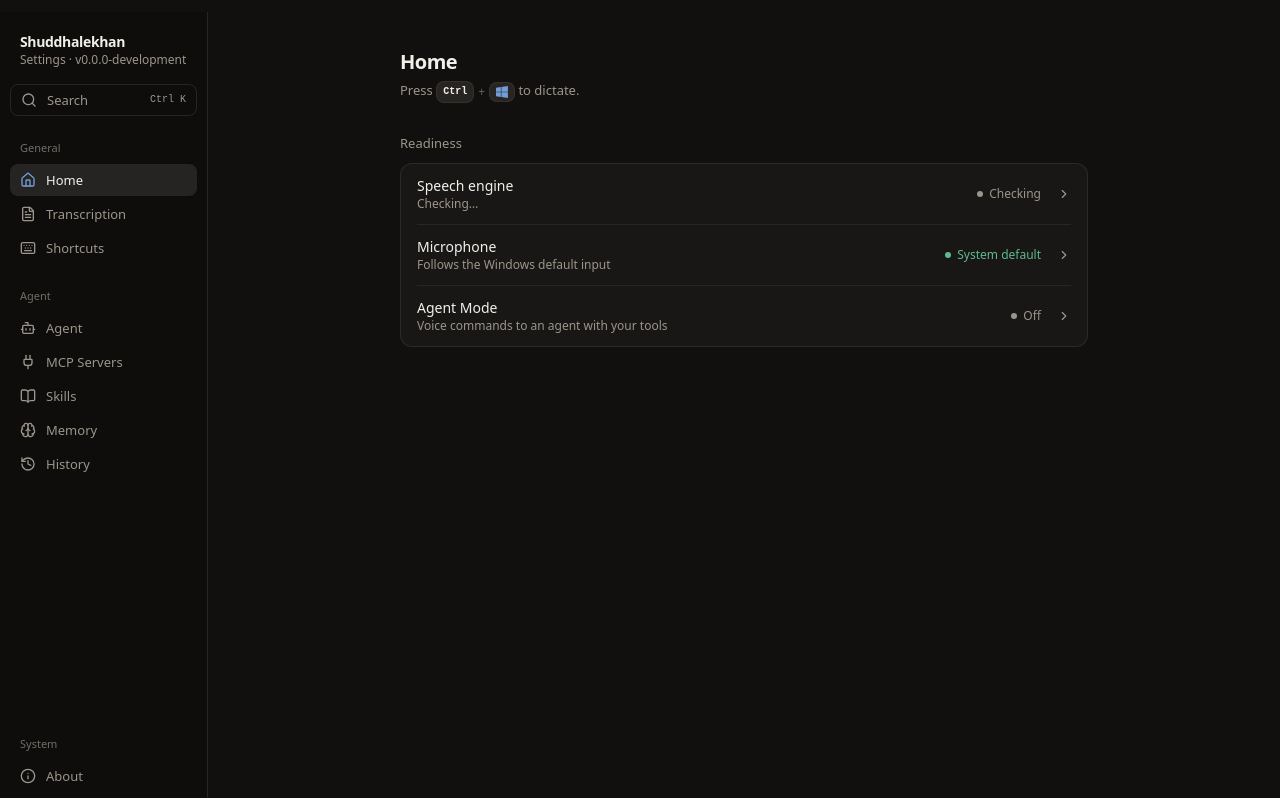
Test case: Settings navigation › counts usable speech files as installed while optional formatting files are missing
Click the tab "Transcription" at (104, 214), box [10,198,197,230]
(page scrolled)
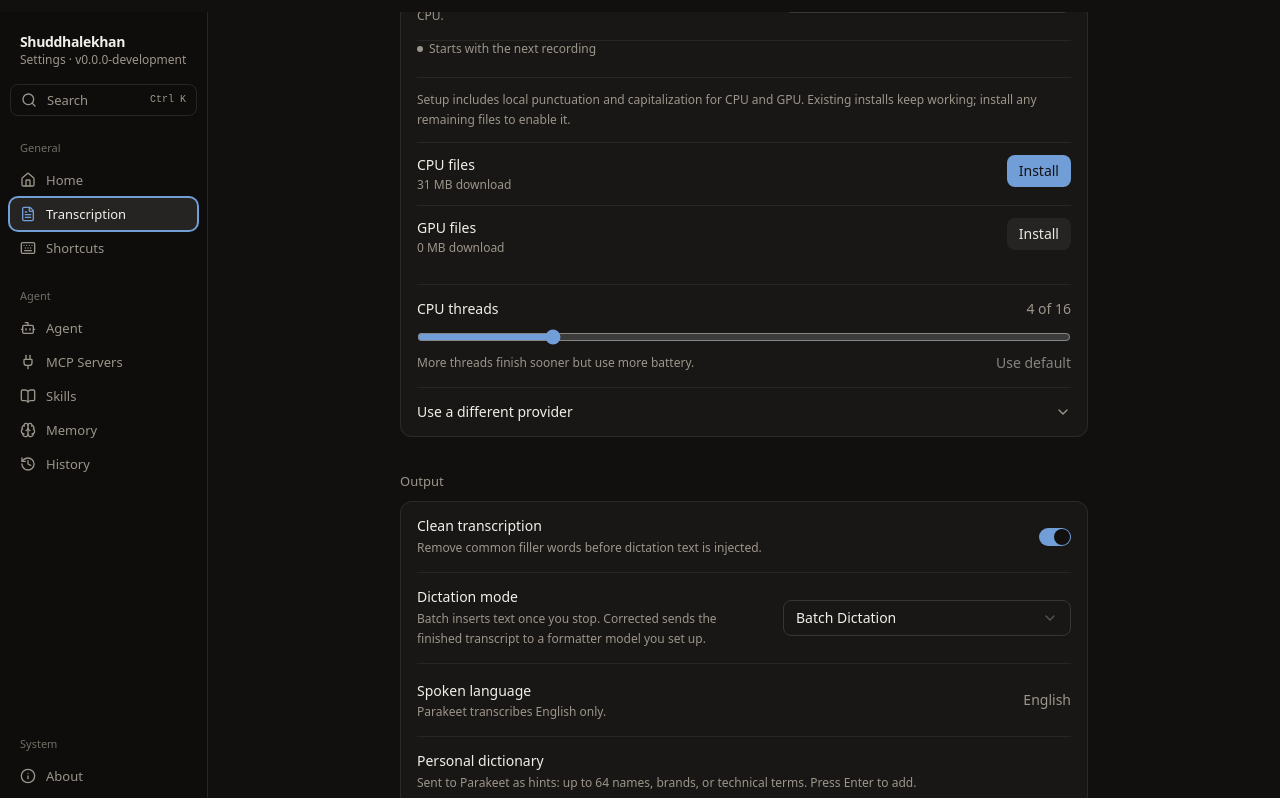
Click the button "Use a different provider" at (495, 412), box [417,402,1071,422]
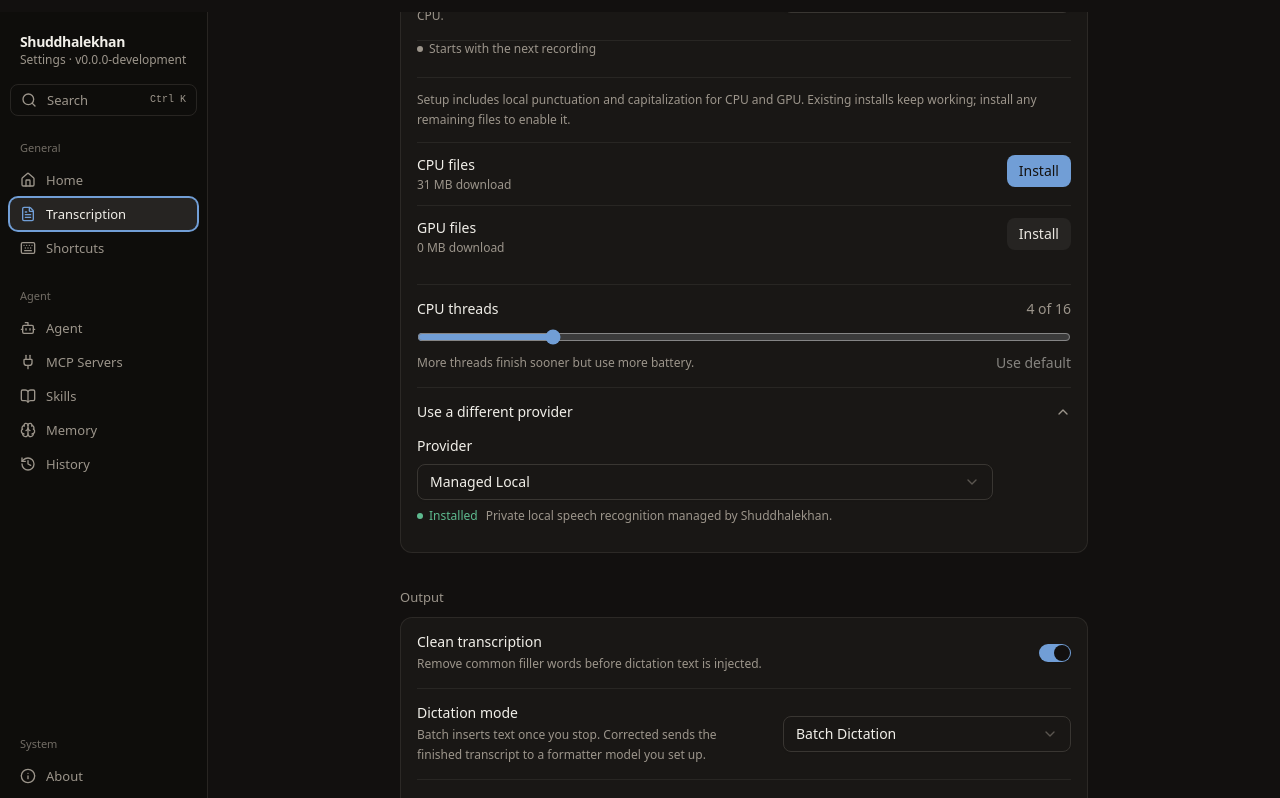
Expected: the text "31 MB download" is shown, [417,177,511,193]
Expected: the text "Installed" is shown, [417,508,478,524]
